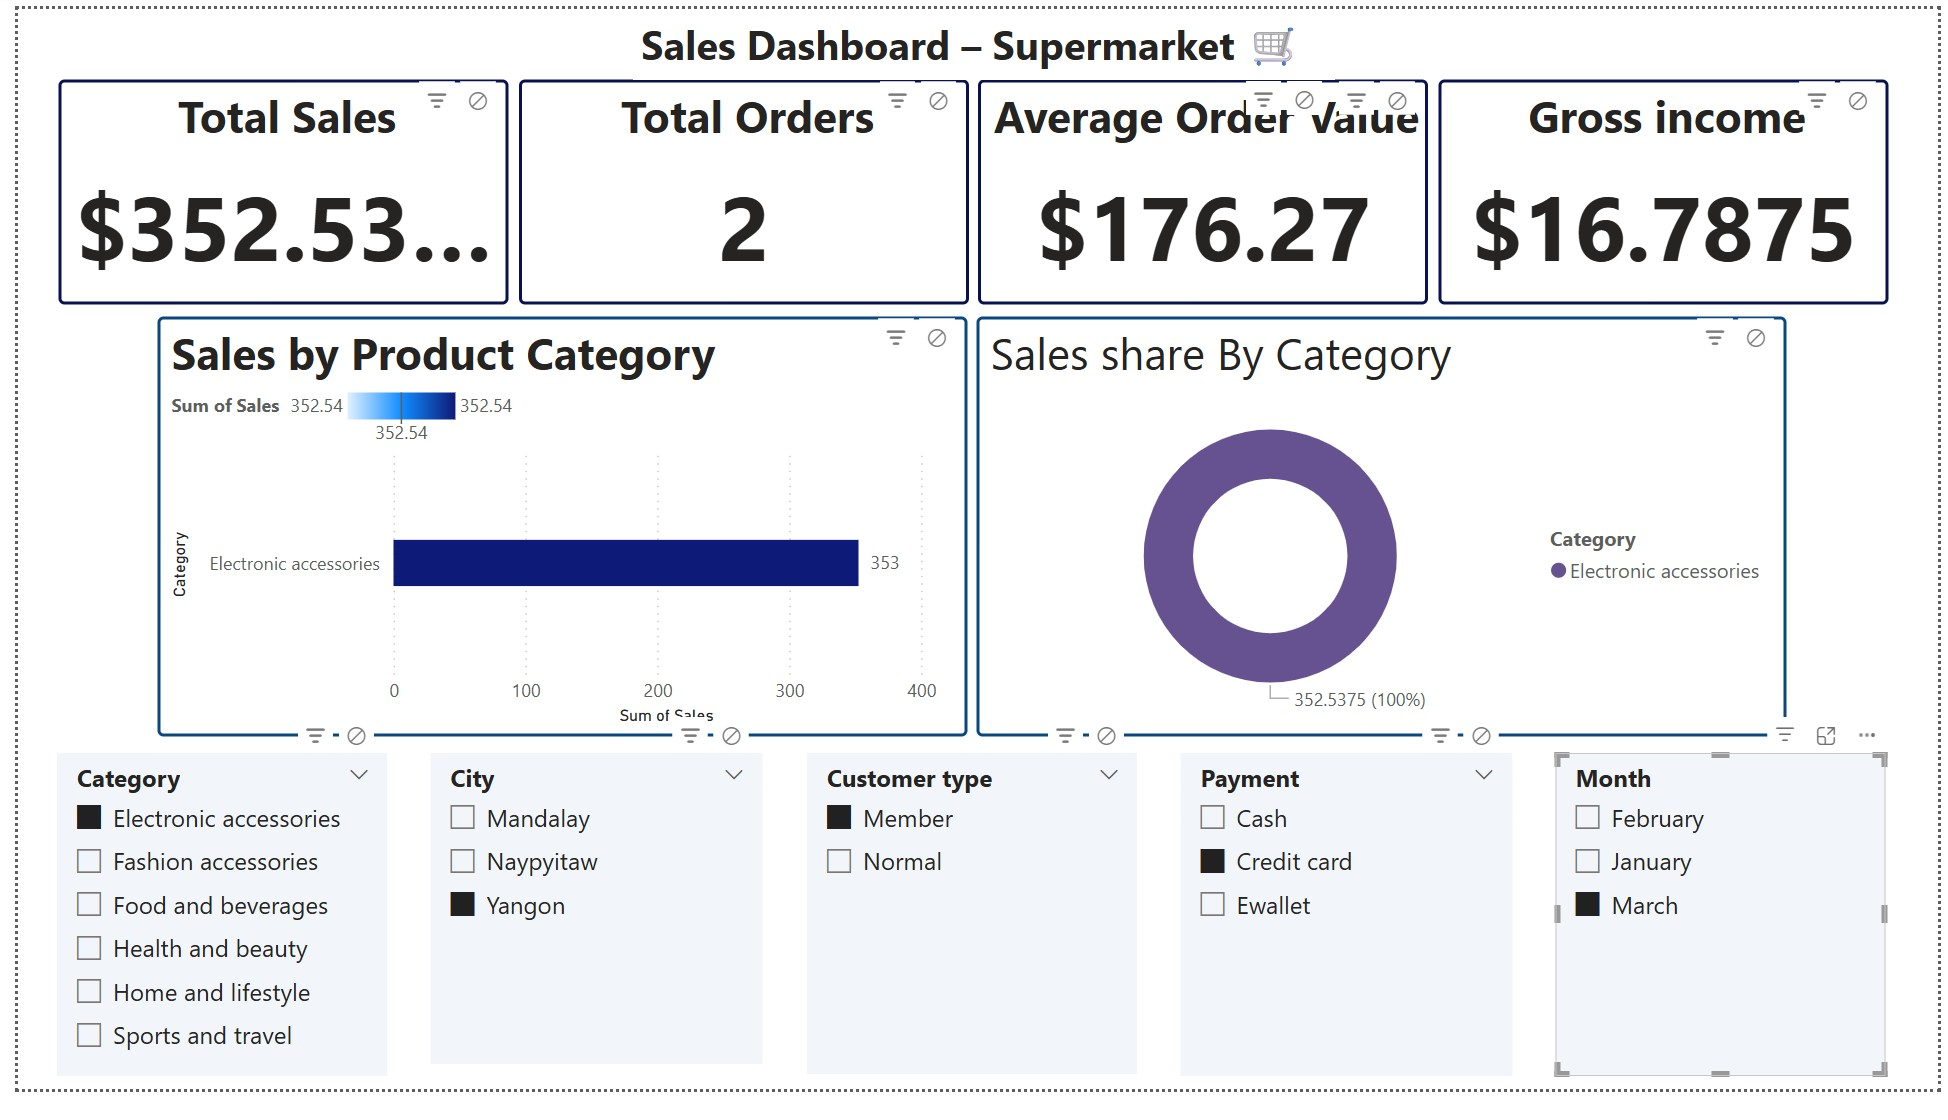

The dashboard page shown, as its layout file describes it:
{"tool":"powerbi","page":{"name":"Page 1","canvas":[1280,720],"ordinal":0},"visuals":[{"type":"card","title":"Total Sales","fields":{"Values":["Sum(supermarket_sales_cleaned.Sales)"]},"box":[27.5,47.3,300,150],"z":0},{"type":"card","title":"Total Orders","fields":{"Values":["Count(supermarket_sales_cleaned.Invoice ID)"]},"box":[333.9,47.3,300,150],"z":1000},{"type":"card","title":"Average Order Value","fields":{"Values":["Avg(supermarket_sales_cleaned.Sales)"]},"box":[640.3,47.3,300,150],"z":2000},{"type":"card","title":"Gross income","fields":{"Values":["Sum(supermarket_sales_cleaned.gross_income)"]},"box":[946.8,47.3,300,150],"z":3000},{"type":"barChart","title":"Sales by Product Category","fields":{"Category":["supermarket_sales_cleaned.Category"],"Y":["Sum(supermarket_sales_cleaned.Sales)"]},"box":[93,205,540,280],"z":4000},{"type":"donutChart","title":"Sales share By Category","fields":{"Category":["supermarket_sales_cleaned.Category"],"Y":["Sum(supermarket_sales_cleaned.Sales)"]},"box":[639,205,540,280],"z":5000},{"type":"slicer","fields":{"Values":["supermarket_sales_cleaned.Category"]},"box":[26,496,220,215],"z":6000},{"type":"slicer","fields":{"Values":["supermarket_sales_cleaned.City"]},"box":[275.2,496,221,207],"z":7000},{"type":"slicer","fields":{"Values":["supermarket_sales_cleaned.Customer type"]},"box":[525.5,496,220,214],"z":8000},{"type":"slicer","fields":{"Values":["supermarket_sales_cleaned.Payment"]},"box":[774.8,496,221,215],"z":9000},{"type":"slicer","fields":{"Values":["supermarket_sales_cleaned.Month"]},"box":[1025,496,220,215],"z":10000},{"type":"textbox","box":[410,0,468,47],"z":10001}]}

Visuals, with their boxes in screenshot pixels (x1, y1, x2, y2), scaled from the page's 1280x720 canvas onto the 1948x1120 screenshot:
"Total Sales" card: [42, 74, 498, 307]
"Total Orders" card: [508, 74, 965, 307]
"Average Order Value" card: [974, 74, 1431, 307]
"Gross income" card: [1441, 74, 1897, 307]
"Sales by Product Category" barChart: [142, 319, 963, 754]
"Sales share By Category" donutChart: [972, 319, 1794, 754]
slicer - supermarket_sales_cleaned.Category: [40, 772, 374, 1106]
slicer - supermarket_sales_cleaned.City: [419, 772, 755, 1094]
slicer - supermarket_sales_cleaned.Customer type: [800, 772, 1135, 1104]
slicer - supermarket_sales_cleaned.Payment: [1179, 772, 1515, 1106]
slicer - supermarket_sales_cleaned.Month: [1560, 772, 1895, 1106]
textbox: [624, 0, 1336, 73]
